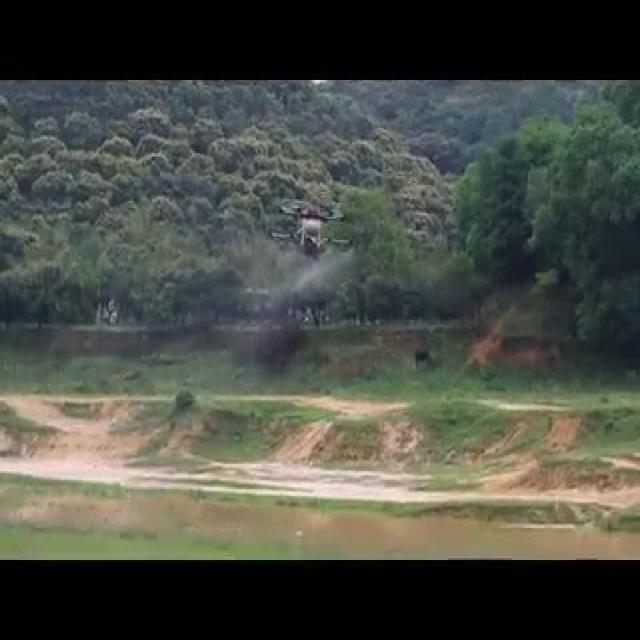drone: (264, 196, 358, 269)
